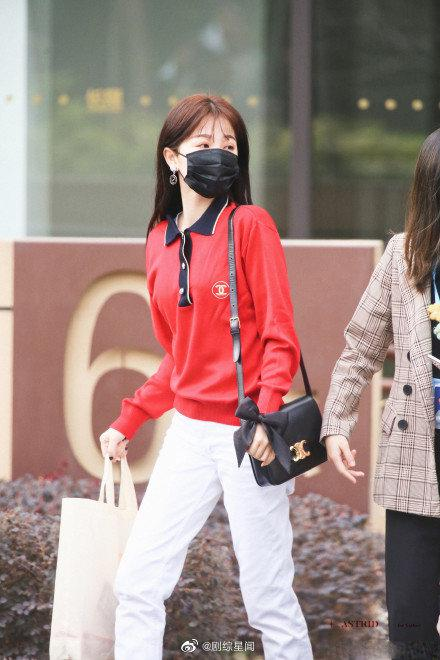OK: (183, 124, 240, 199)
